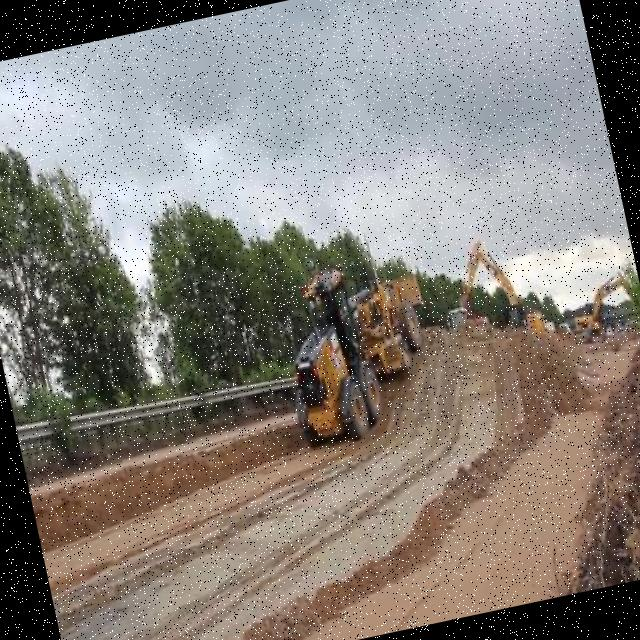Excavator: (457, 230, 549, 352), (564, 270, 638, 342)
